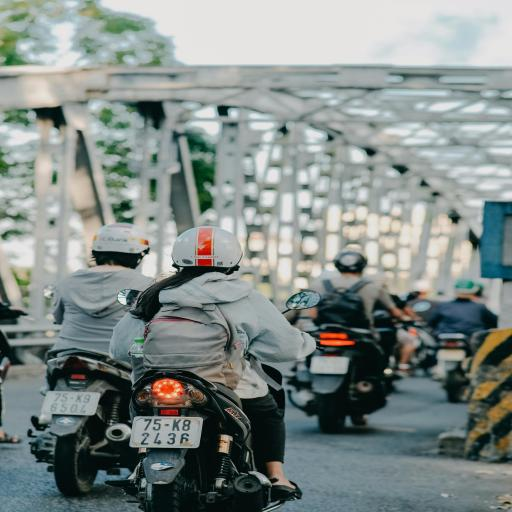place: (134, 420, 196, 448)
